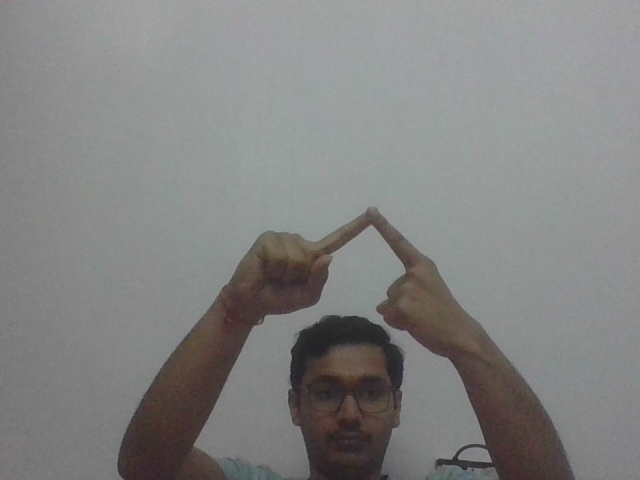E: (248, 204, 480, 336)
